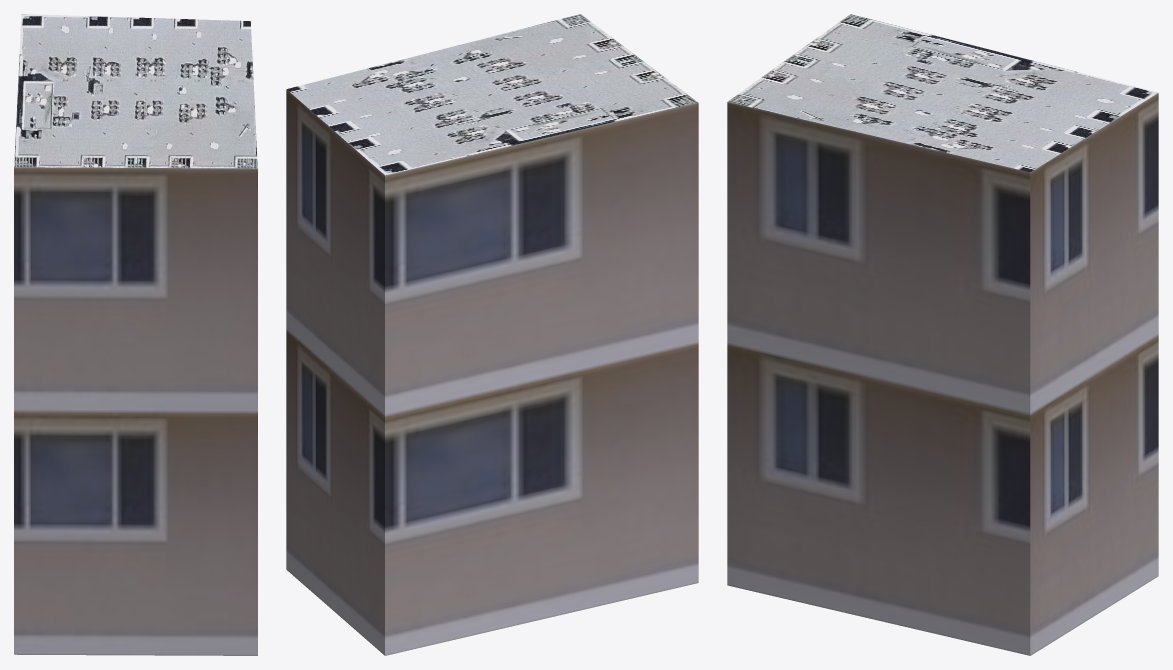
File: ResTex__3003.fbx
The picture shows the model from 3 angles, left to right: view 1: azimuth 30°, elevation 25°; view 2: azimuth 150°, elevation 25°; view 3: azimuth 270°, elevation 25°; orthographic projection.
Parts seen in each view (by area): view 1: CityEngineMaterial_21_m, CityEngineMaterial_4_m; view 2: CityEngineMaterial_21_m, CityEngineMaterial_4_m; view 3: CityEngineMaterial_21_m, CityEngineMaterial_4_m.
Boxes of the visible parts, x1,y1,x2,y2 form: CityEngineMaterial_21_m: (14,167,257,655); CityEngineMaterial_4_m: (14,14,257,168); CityEngineMaterial_21_m: (286,89,698,655); CityEngineMaterial_4_m: (286,14,697,175); CityEngineMaterial_21_m: (727,93,1158,655); CityEngineMaterial_4_m: (727,14,1158,172).
Bounding box in the file's own units: 4.22 × 6 × 4.85.
Materials: 2 (2 with a texture image).
